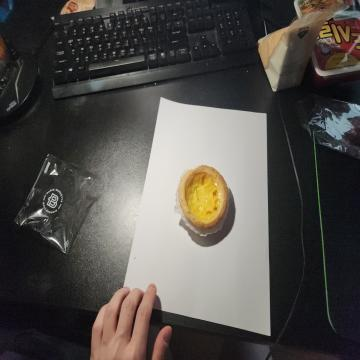EggTart: (178, 165, 229, 231)
